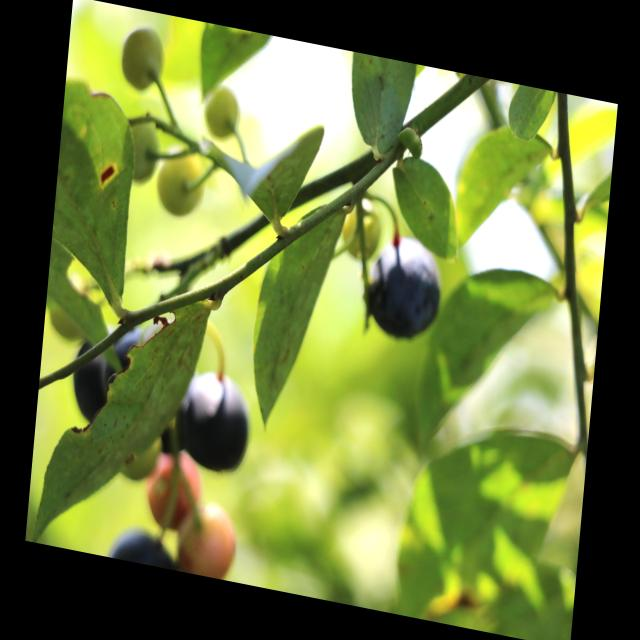blueberry: (361, 227, 444, 346), (176, 366, 256, 478)
blueberry-halfripe: (174, 498, 243, 582), (144, 444, 205, 534)
blueberry-unripe: (151, 143, 206, 223), (118, 21, 167, 96), (337, 192, 385, 264), (198, 77, 246, 147), (119, 112, 160, 182)
